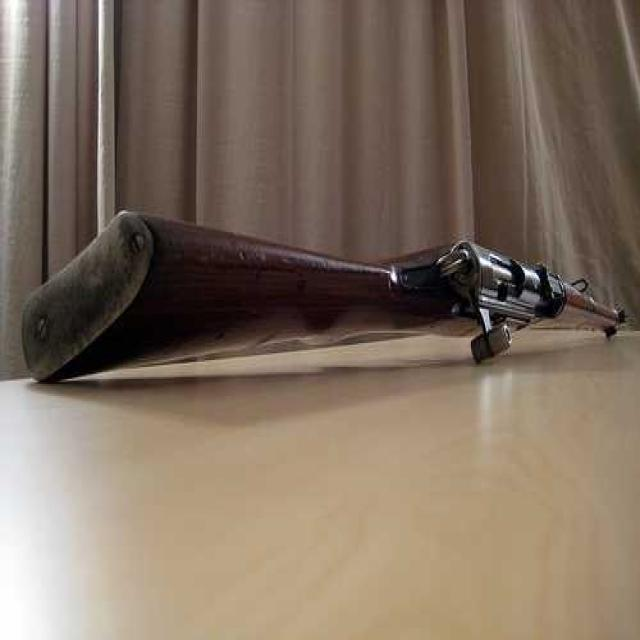heavyweapon: (17, 175, 634, 419)
